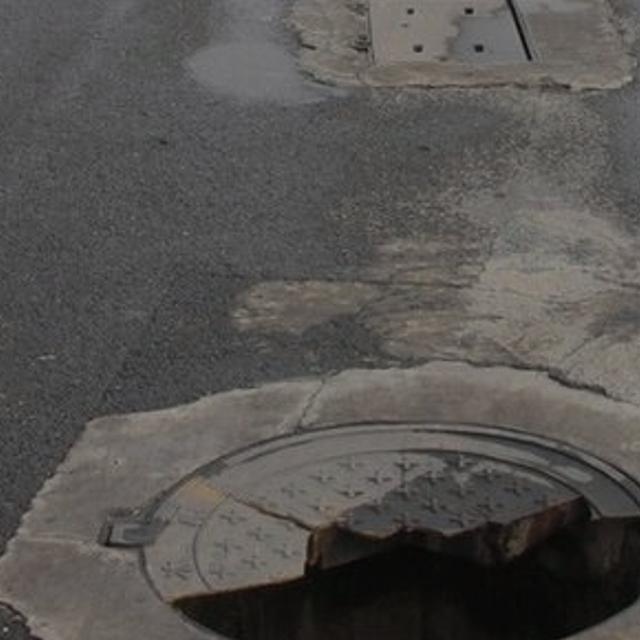broke: (13, 308, 640, 640)
